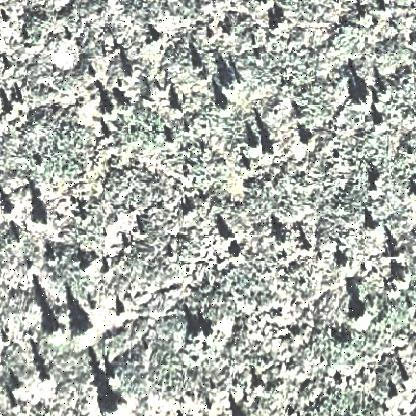tree-top: (69, 322, 96, 350), (349, 302, 373, 330), (103, 393, 129, 416), (100, 363, 122, 389), (185, 320, 213, 340), (351, 90, 375, 113), (213, 99, 236, 119), (45, 319, 65, 342), (33, 209, 54, 230), (221, 74, 241, 95), (102, 101, 120, 122), (245, 138, 263, 156), (227, 245, 245, 263), (300, 134, 316, 152), (264, 143, 278, 163), (367, 219, 383, 235)
